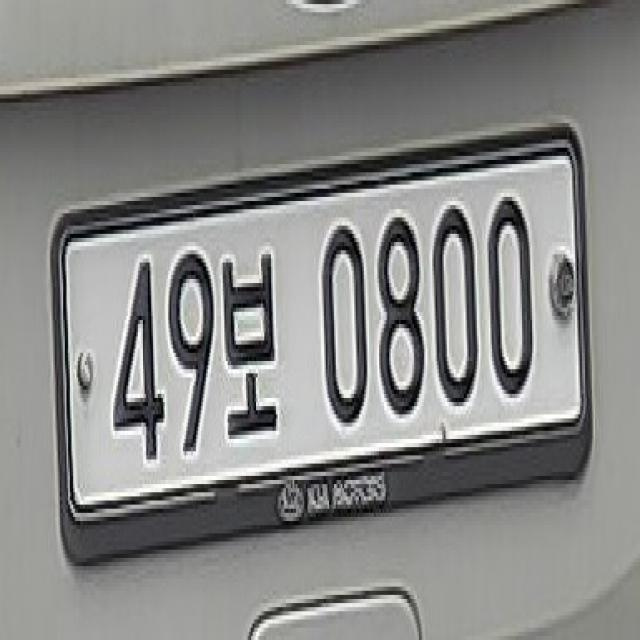0: (312, 210, 372, 434), (431, 196, 482, 418), (484, 188, 534, 396)
4: (110, 258, 168, 480)
8: (373, 205, 428, 434)
9: (167, 242, 217, 468)
bo: (218, 244, 284, 452)
license_plate: (37, 99, 608, 601)
